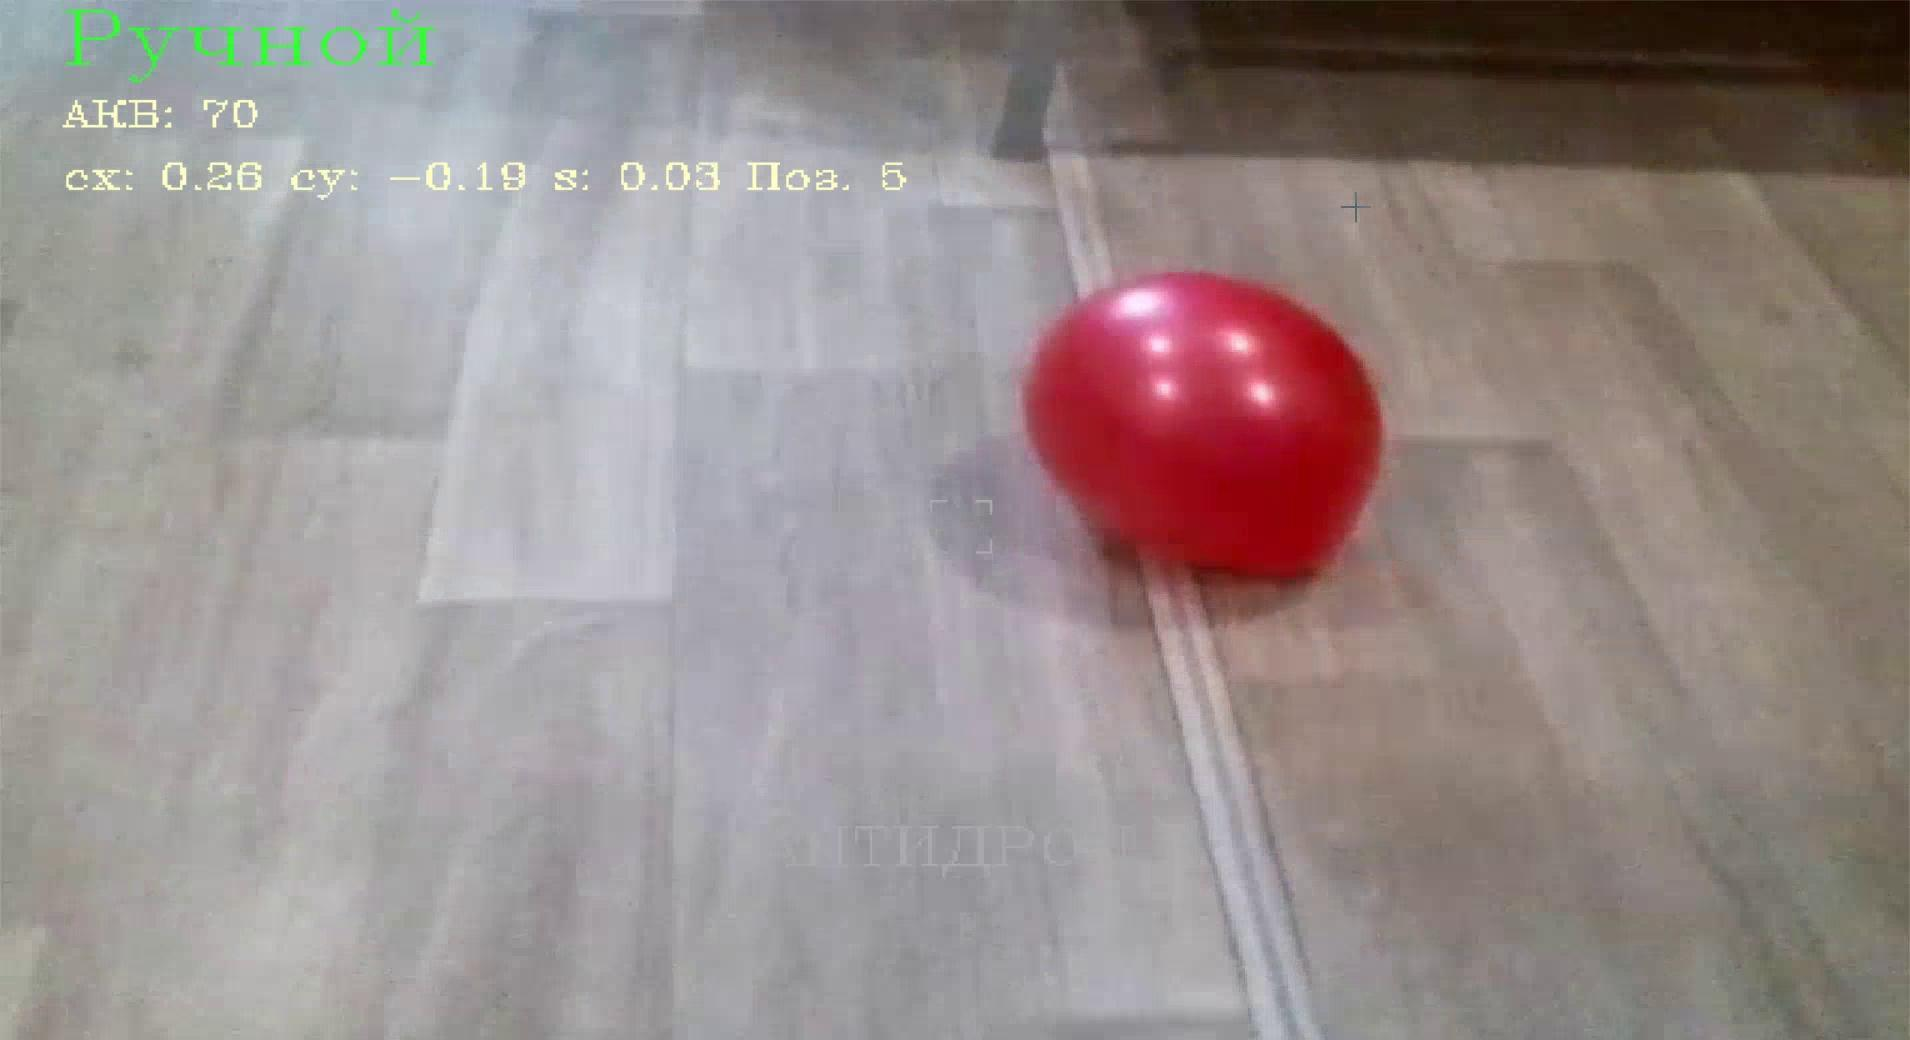red: (1008, 255, 1388, 606)
